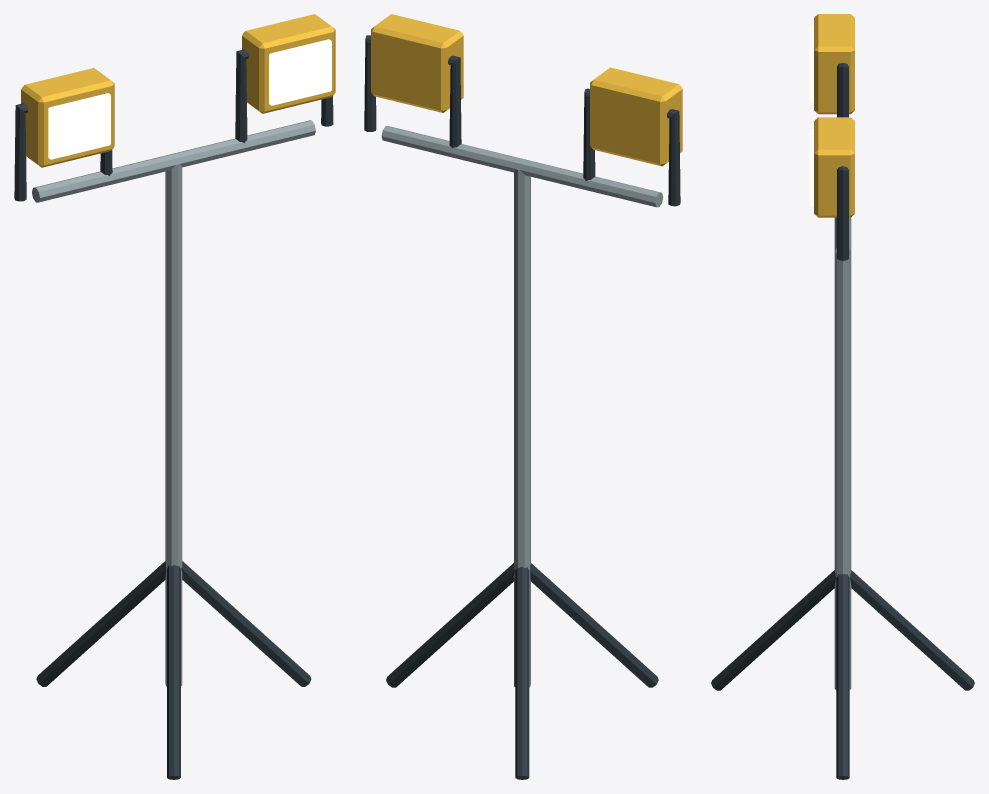
File: Worklight_Twin_Tripod.glb
3 views of the same model, side by side, from view 1: azimuth 30°, elevation 25°; view 2: azimuth 150°, elevation 25°; view 3: azimuth 270°, elevation 25° (orthographic). The views are drawn at different scales.
Parts seen in each view (by area): view 1: Worklight_Twin_Tripod; view 2: Worklight_Twin_Tripod; view 3: Worklight_Twin_Tripod.
Boxes of the visible parts, left/top/right/bottom form: Worklight_Twin_Tripod: left=14, top=14, right=335, bottom=779; Worklight_Twin_Tripod: left=364, top=14, right=682, bottom=779; Worklight_Twin_Tripod: left=711, top=14, right=974, bottom=779.
Size of the model in its own units: 1.04 by 2.07 by 0.777.
